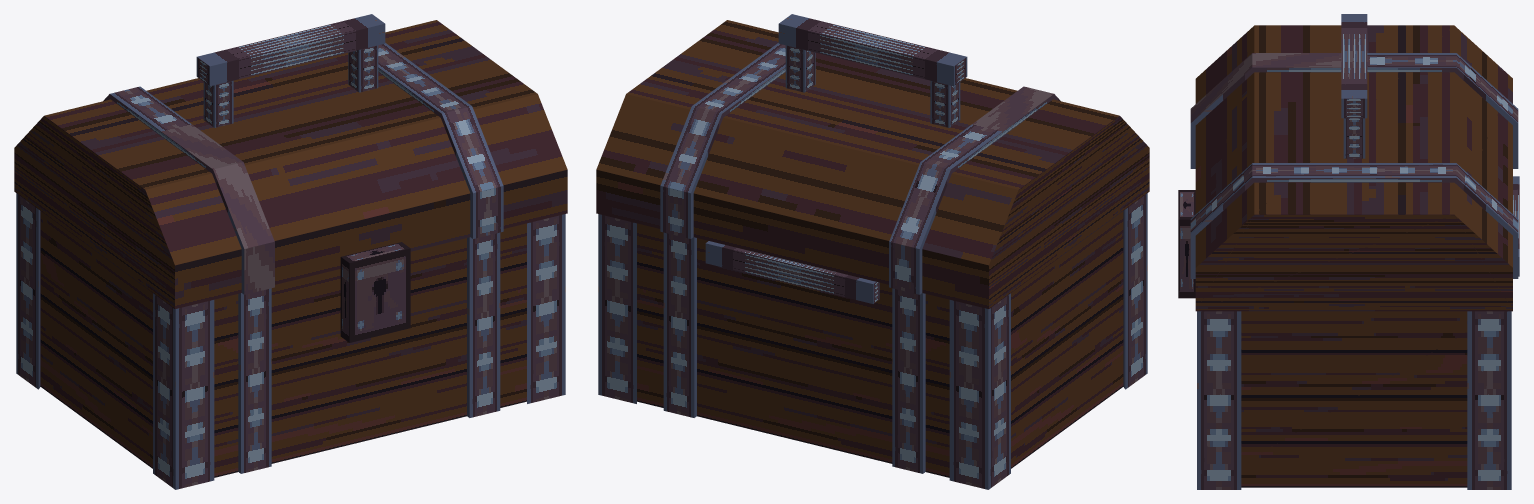
The model's file is chest_guard.glb.
3 views of the same model, side by side, from view 1: azimuth 30°, elevation 25°; view 2: azimuth 150°, elevation 25°; view 3: azimuth 270°, elevation 25° (orthographic).
Visible parts, largest first — view 1: lid, base, lock; view 2: lid, base; view 3: lid, base, lock.
Boxes of the visible parts, bbox=[...] form: lid: bbox=[14, 14, 567, 308]; base: bbox=[16, 193, 565, 489]; lock: bbox=[340, 242, 410, 342]; lid: bbox=[596, 14, 1149, 308]; base: bbox=[598, 193, 1147, 489]; lid: bbox=[1190, 14, 1518, 311]; base: bbox=[1197, 176, 1519, 489]; lock: bbox=[1178, 190, 1195, 298].
Bounding box in the file's own units: 1.03 × 0.862 × 0.785.
Materials: 1 (1 with a texture image).
